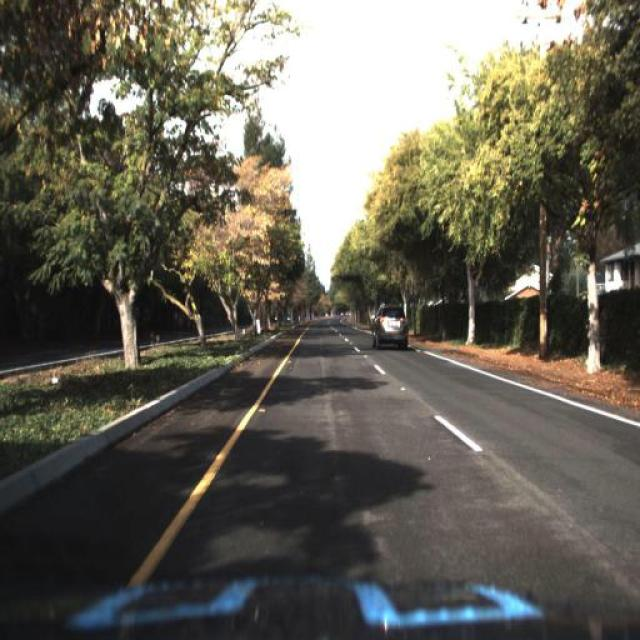car: (370, 298, 410, 348)
